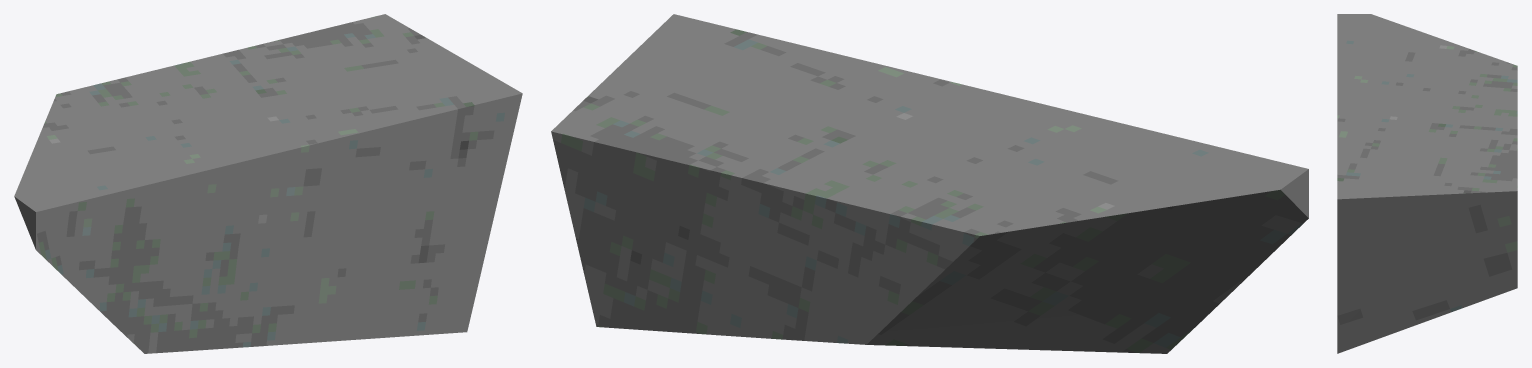
The model's file is barriar_cell_004.glb.
The picture shows the model from 3 angles, left to right: view 1: azimuth 30°, elevation 25°; view 2: azimuth 150°, elevation 25°; view 3: azimuth 270°, elevation 25°; orthographic projection. The views are drawn at different scales.
Visible parts, largest first — view 1: Barriar_cell.004; view 2: Barriar_cell.004; view 3: Barriar_cell.004.
Boxes of the visible parts, x1=… form: Barriar_cell.004: x1=14, y1=14, x2=522, y2=353; Barriar_cell.004: x1=551, y1=14, x2=1308, y2=353; Barriar_cell.004: x1=1337, y1=14, x2=1517, y2=353.
Bounding box in the file's own units: 1.01 × 0.4447 × 0.4141.
Materials: 1 (1 with a texture image).
